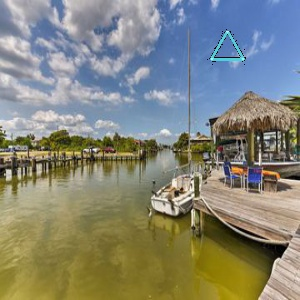triangle: (206, 28, 250, 63)
